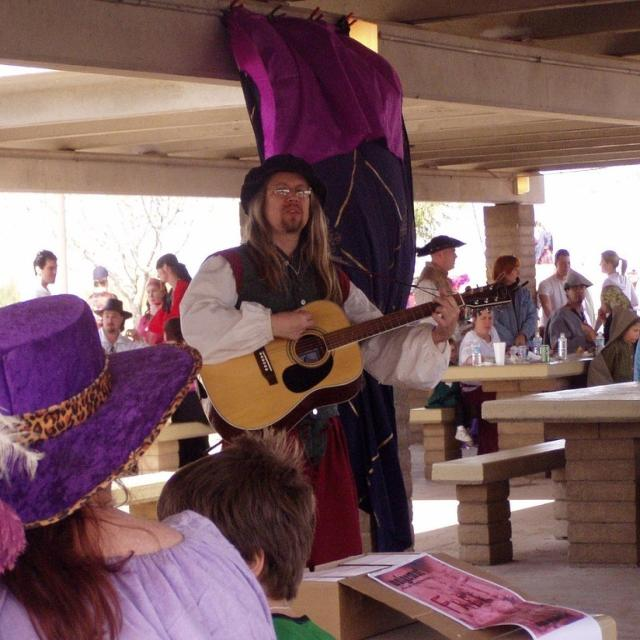guitar: (194, 276, 515, 446)
